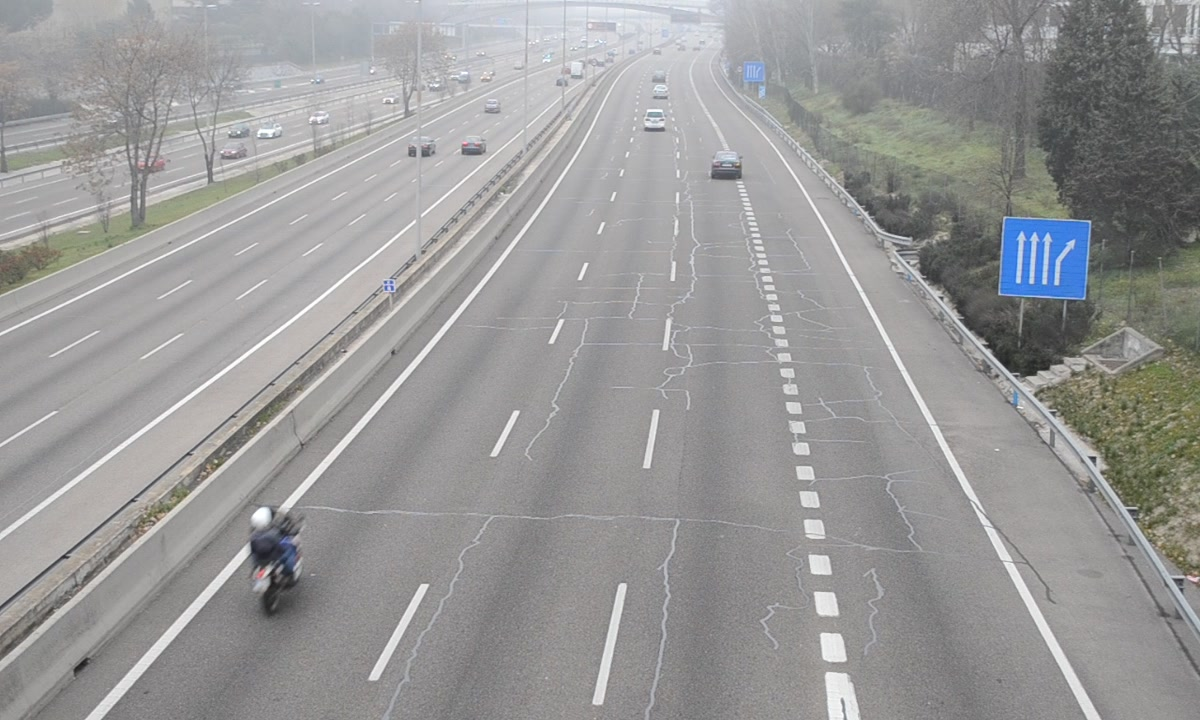car: (710, 149, 742, 180), (642, 110, 668, 133)
motorcycle: (242, 509, 302, 613)
